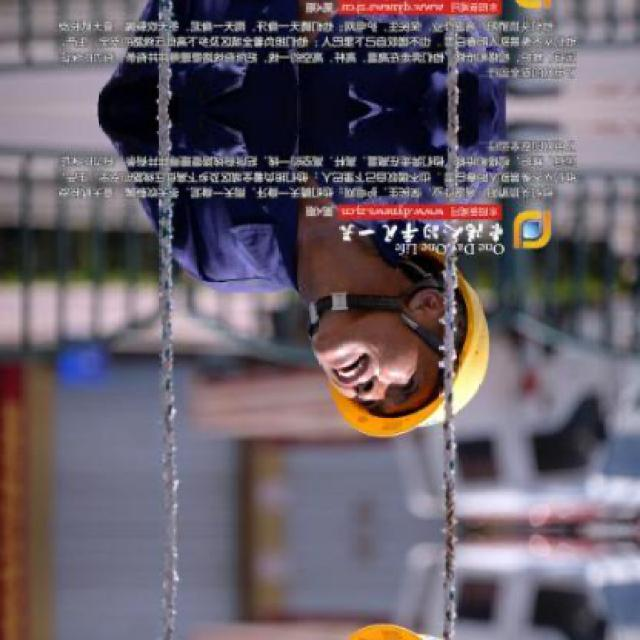con casco: (282, 254, 543, 462)
